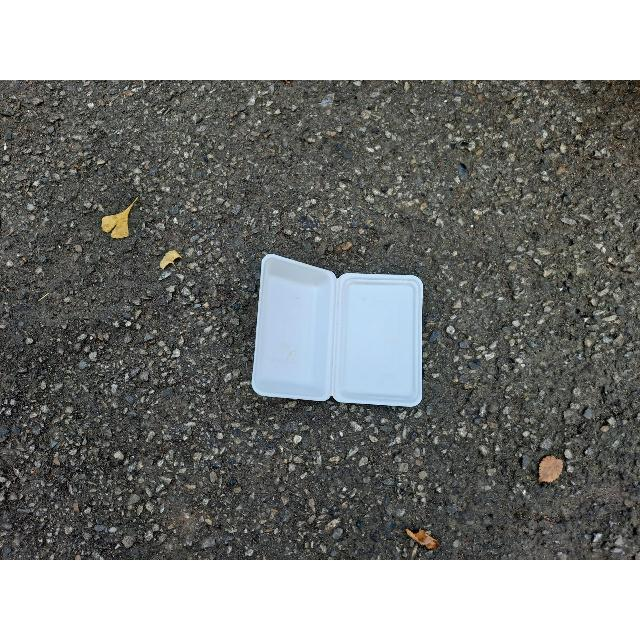Plastico descartable: (255, 257, 424, 409)
